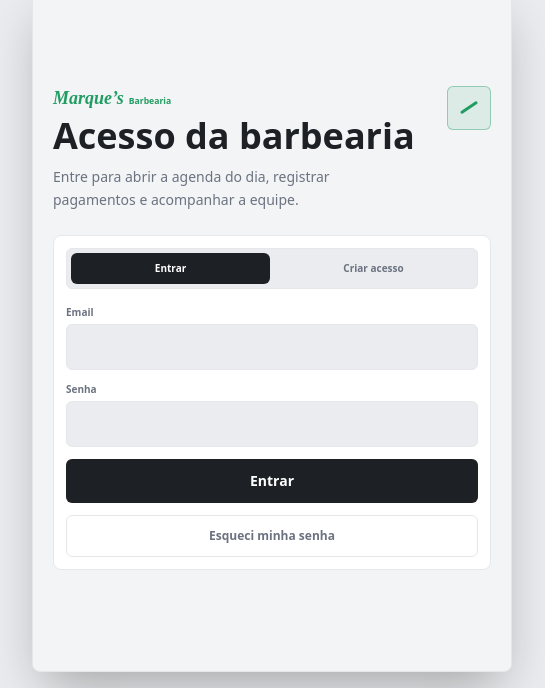
Test case: LoginPage signup feedback › shows an offline message when login cannot reach the API
Type "cliente@example.com" into the field. click: [272, 347]
box: [66,324,478,370]
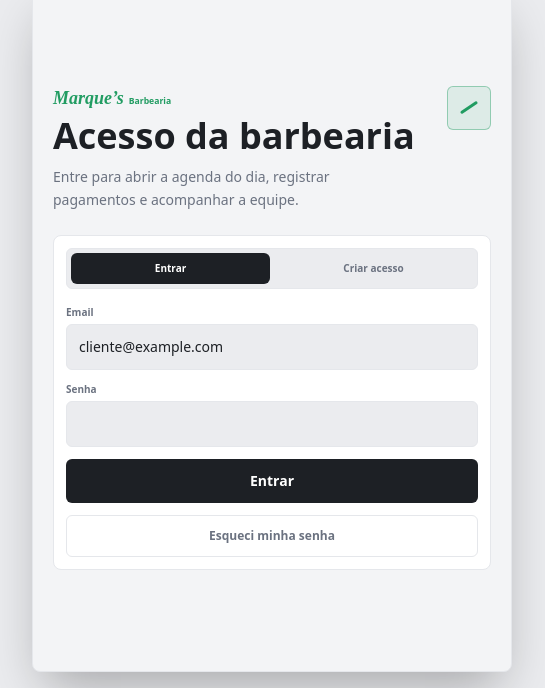
Type "SenhaTeste123" into the password field. click: [272, 424]
box: [66,401,478,447]
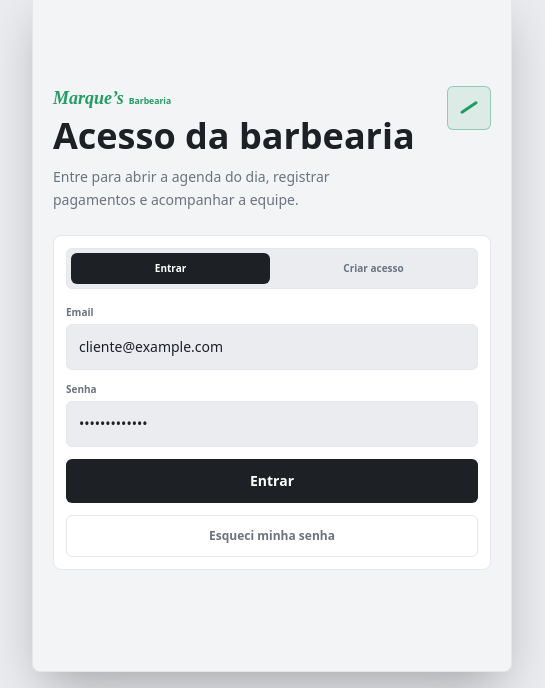
Click the submit button. click: [272, 481]
box: [66,459,478,503]
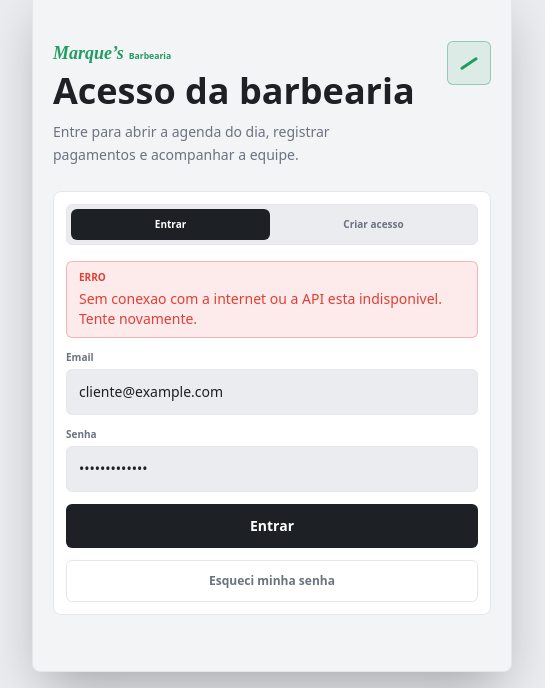
Result: the text "Sem conexao com a internet ou a API esta indisponivel. Tente novamente." is shown at [79,289,465,329]
